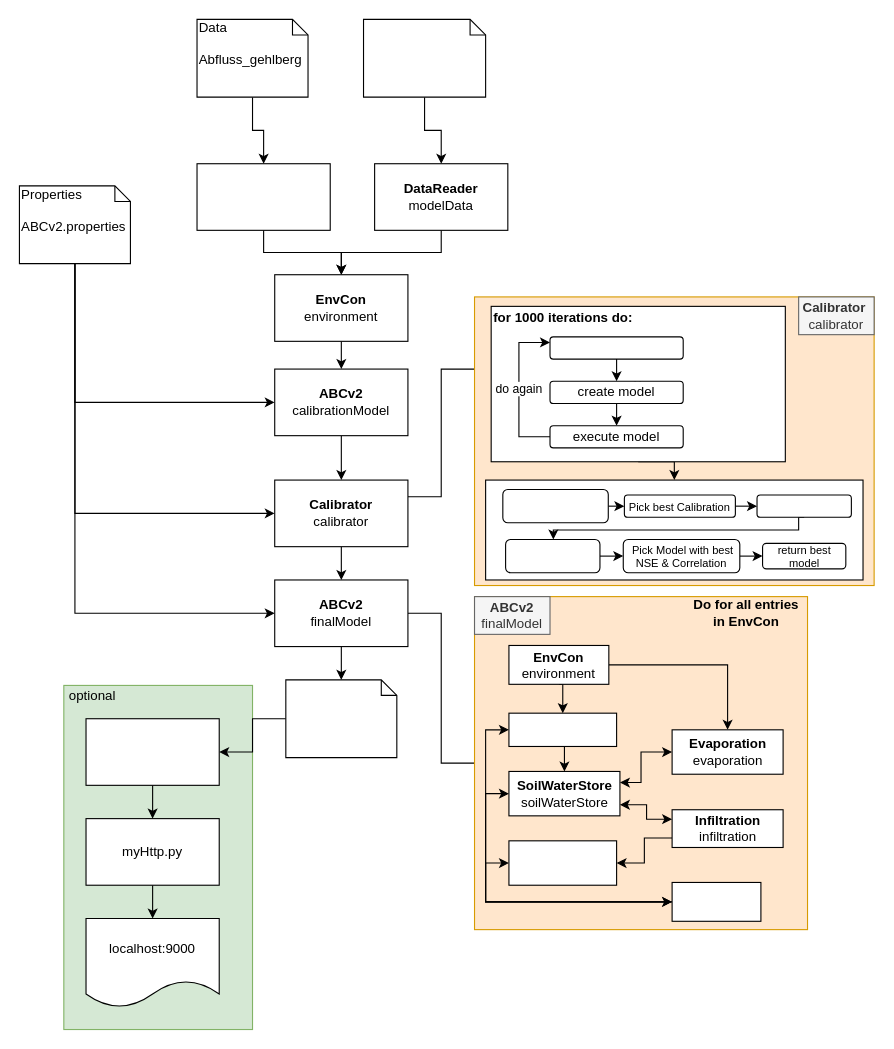
The diagram is 894 pixels wide and 1049 high, and some of its shapes have lost their labels. Each missing label, with the centre of its shape:
"BaseStore baseStore" goes at [562,862].
"calc. correlation to calibration" goes at [555,505].
"Calculate NSE to Calibration" goes at [552,555].
"Data Klima_schmuecke" goes at [424,57].
"DataReader calibrationData" goes at [263,196].
"DepStore depressionStore" goes at [562,729].
"Filter best Models" goes at [803,505].
"Log newLog.txt" goes at [341,718].
"pick random a,b,c" goes at [616,347].
"RunOff runOff" goes at [716,901].
"vis.py" goes at [152,751].
